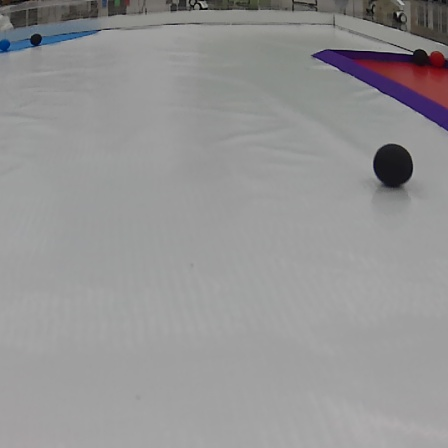black: (370, 143, 414, 190), (413, 50, 427, 65), (30, 33, 42, 46)
blue: (0, 39, 12, 48)
blue_base: (0, 27, 101, 49)
red: (430, 51, 445, 65)
red_aim: (313, 40, 448, 128)
